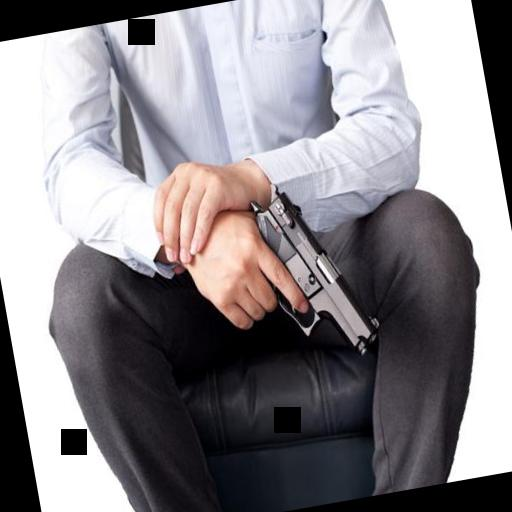Handgun: (175, 184, 381, 386)
